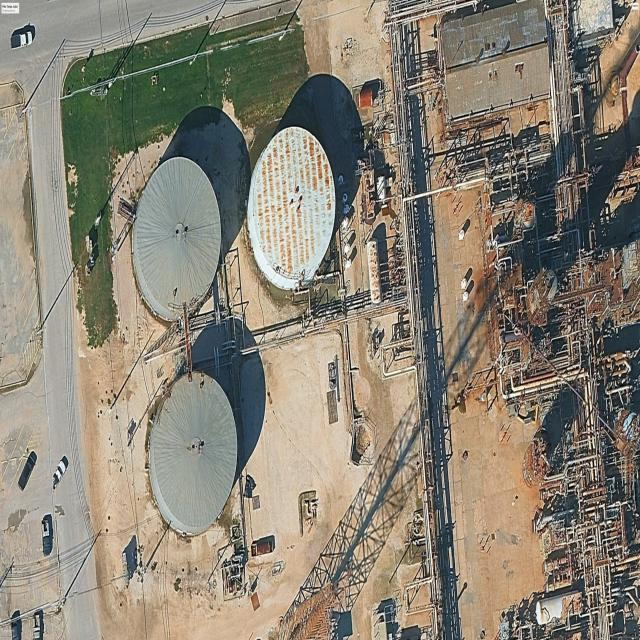Oil Rafinery: (132, 157, 221, 321), (247, 127, 336, 290), (149, 375, 238, 535)
